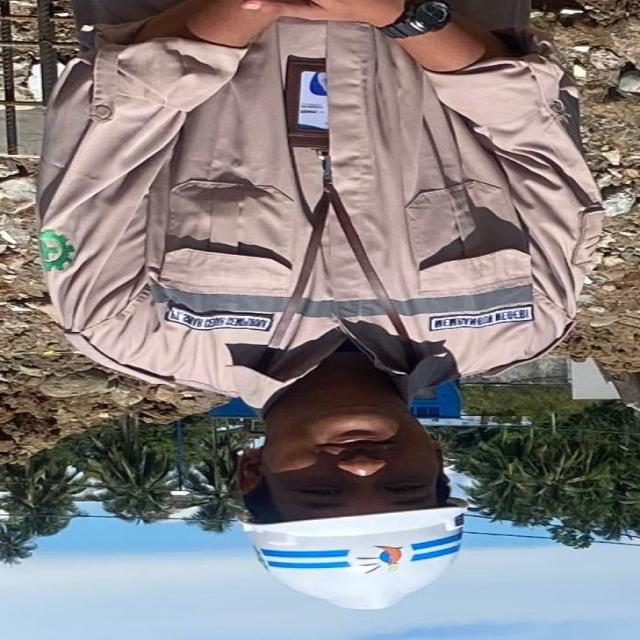safetyhelmet: (218, 433, 498, 620)
